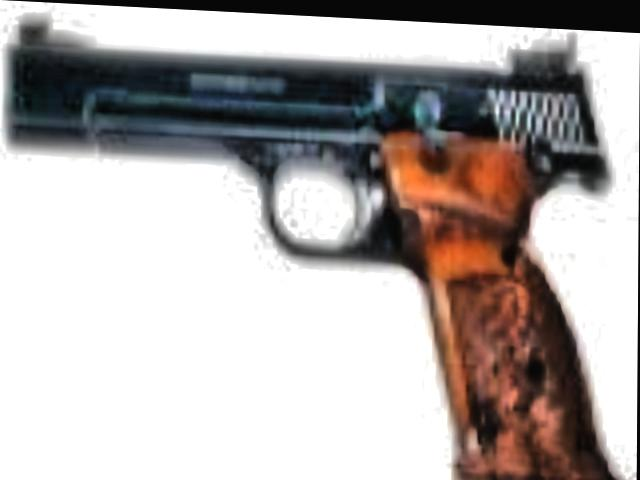pistol: (1, 20, 616, 480)
